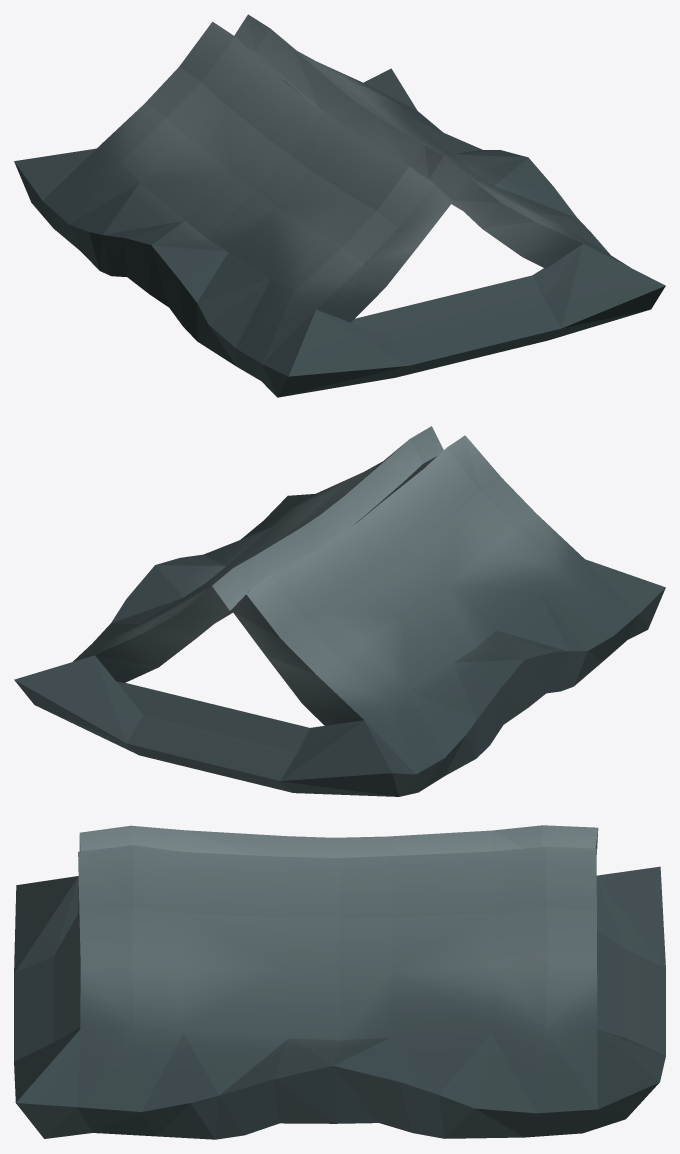
Rendered from Shrine_RoofOnly.fbx.
The picture shows the model from 3 angles, top to bottom: view 1: azimuth 30°, elevation 25°; view 2: azimuth 150°, elevation 25°; view 3: azimuth 270°, elevation 25°; orthographic projection. The views are drawn at different scales.
Parts seen in each view (by area): view 1: Shrine_RoofOnly; view 2: Shrine_RoofOnly; view 3: Shrine_RoofOnly.
Part boxes in pixels (x1,y1,x2,y2): Shrine_RoofOnly: (14, 14, 665, 397); Shrine_RoofOnly: (14, 426, 665, 796); Shrine_RoofOnly: (14, 825, 665, 1139).
Size of the model in its own units: 4.67 by 2.04 by 5.92.
1 material, 1 textured.
